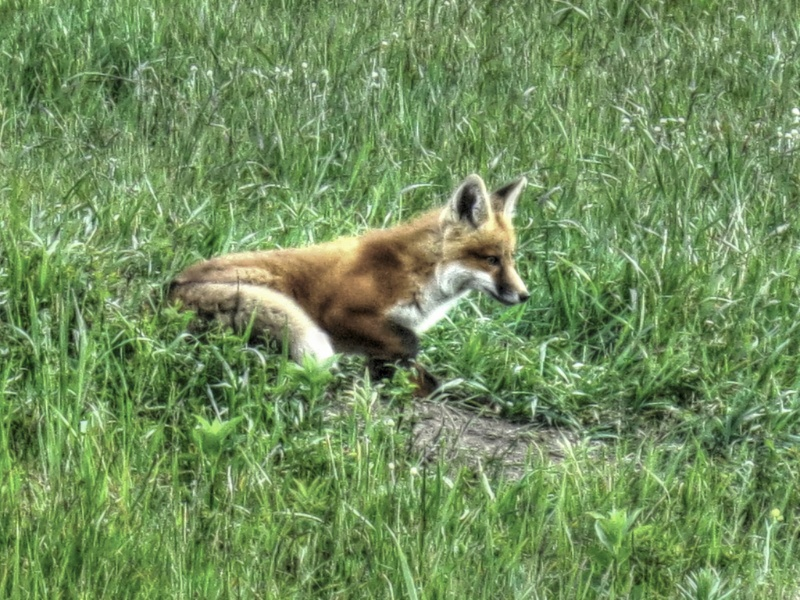fox: (159, 172, 532, 406)
